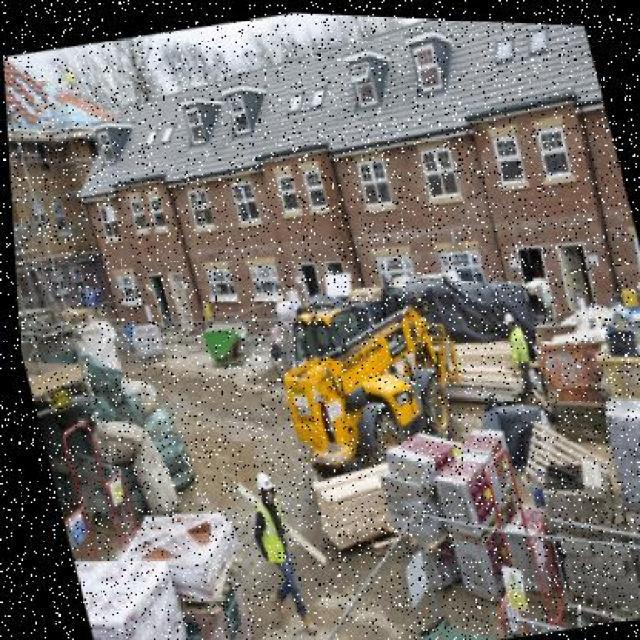helmet: (243, 462, 277, 498), (492, 297, 514, 327)
